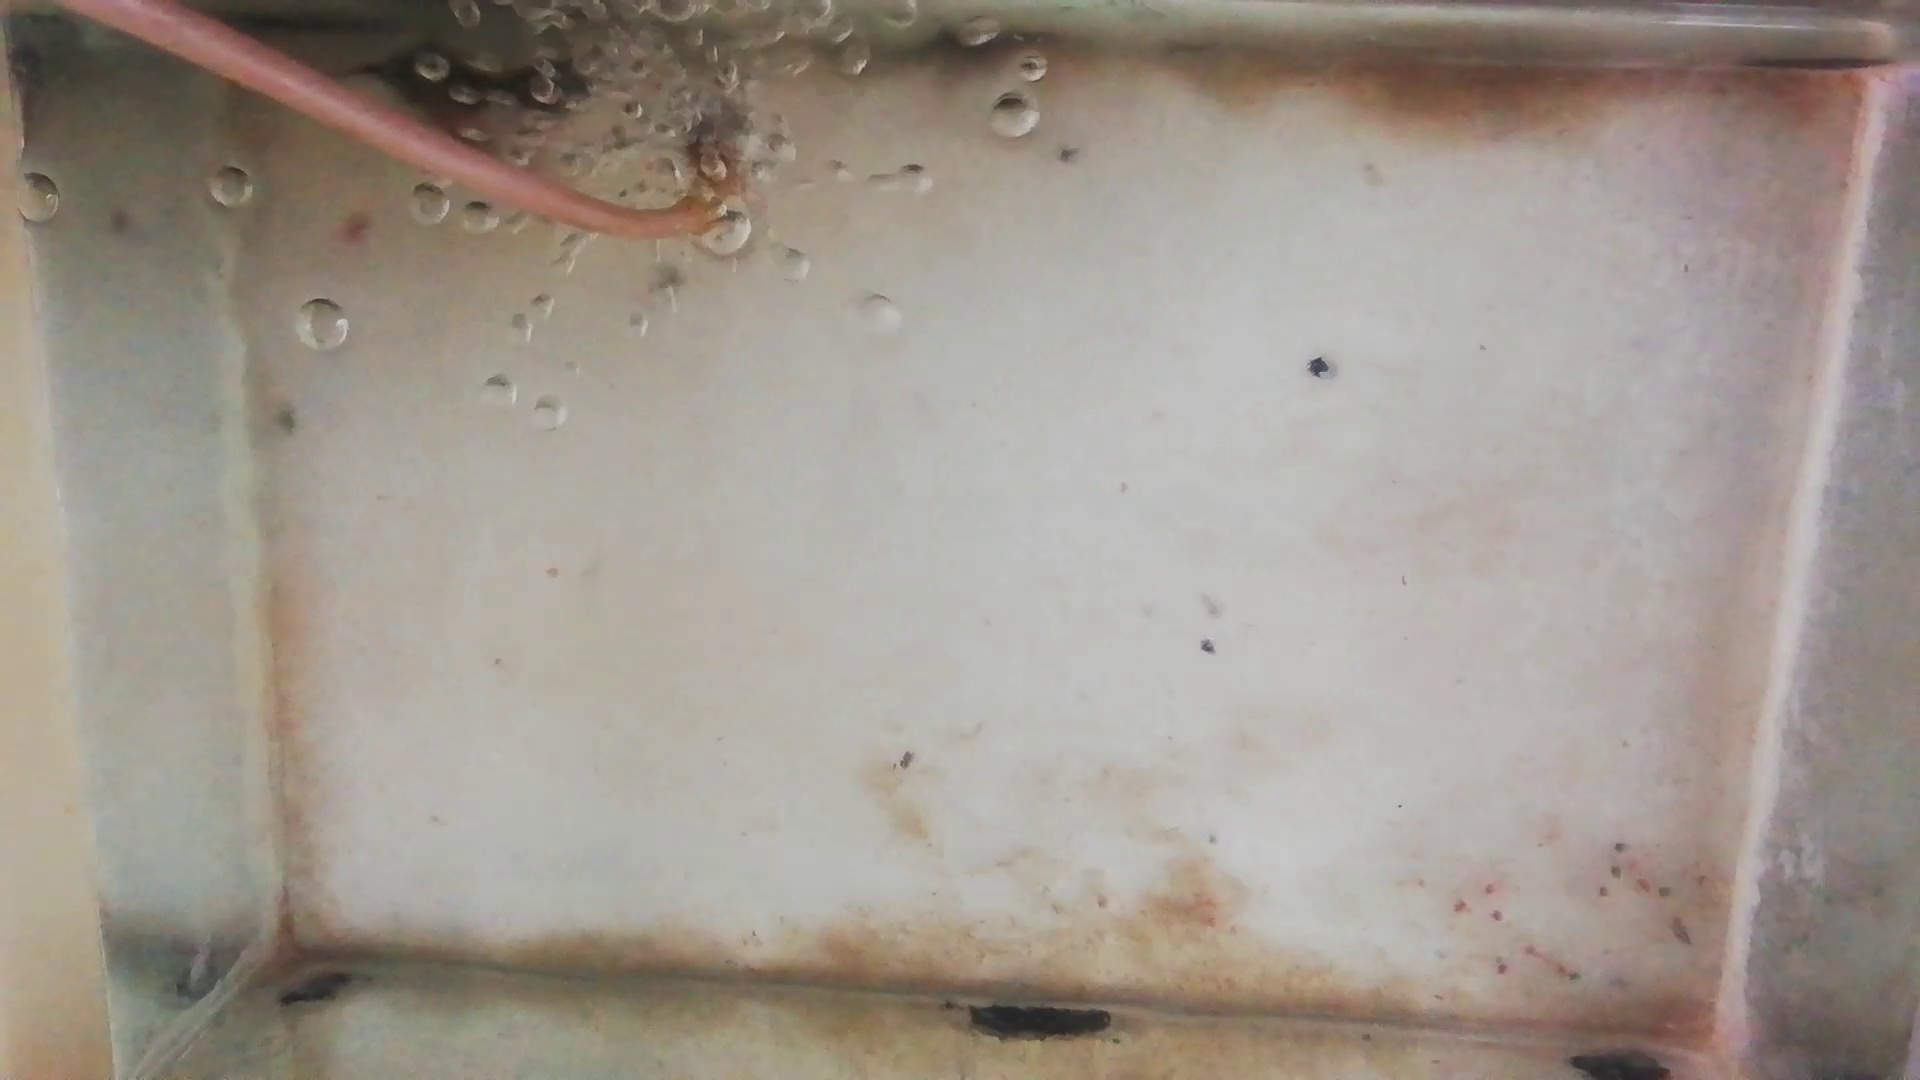fish: (372, 45, 592, 109), (429, 109, 566, 169)
